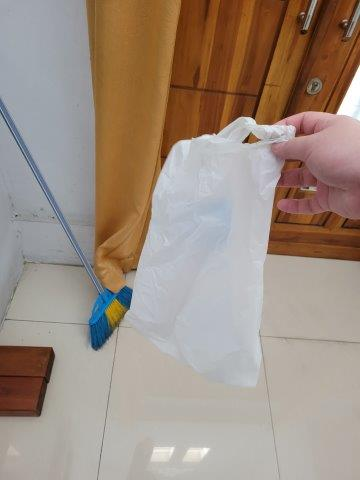plastik: (121, 116, 298, 384)
